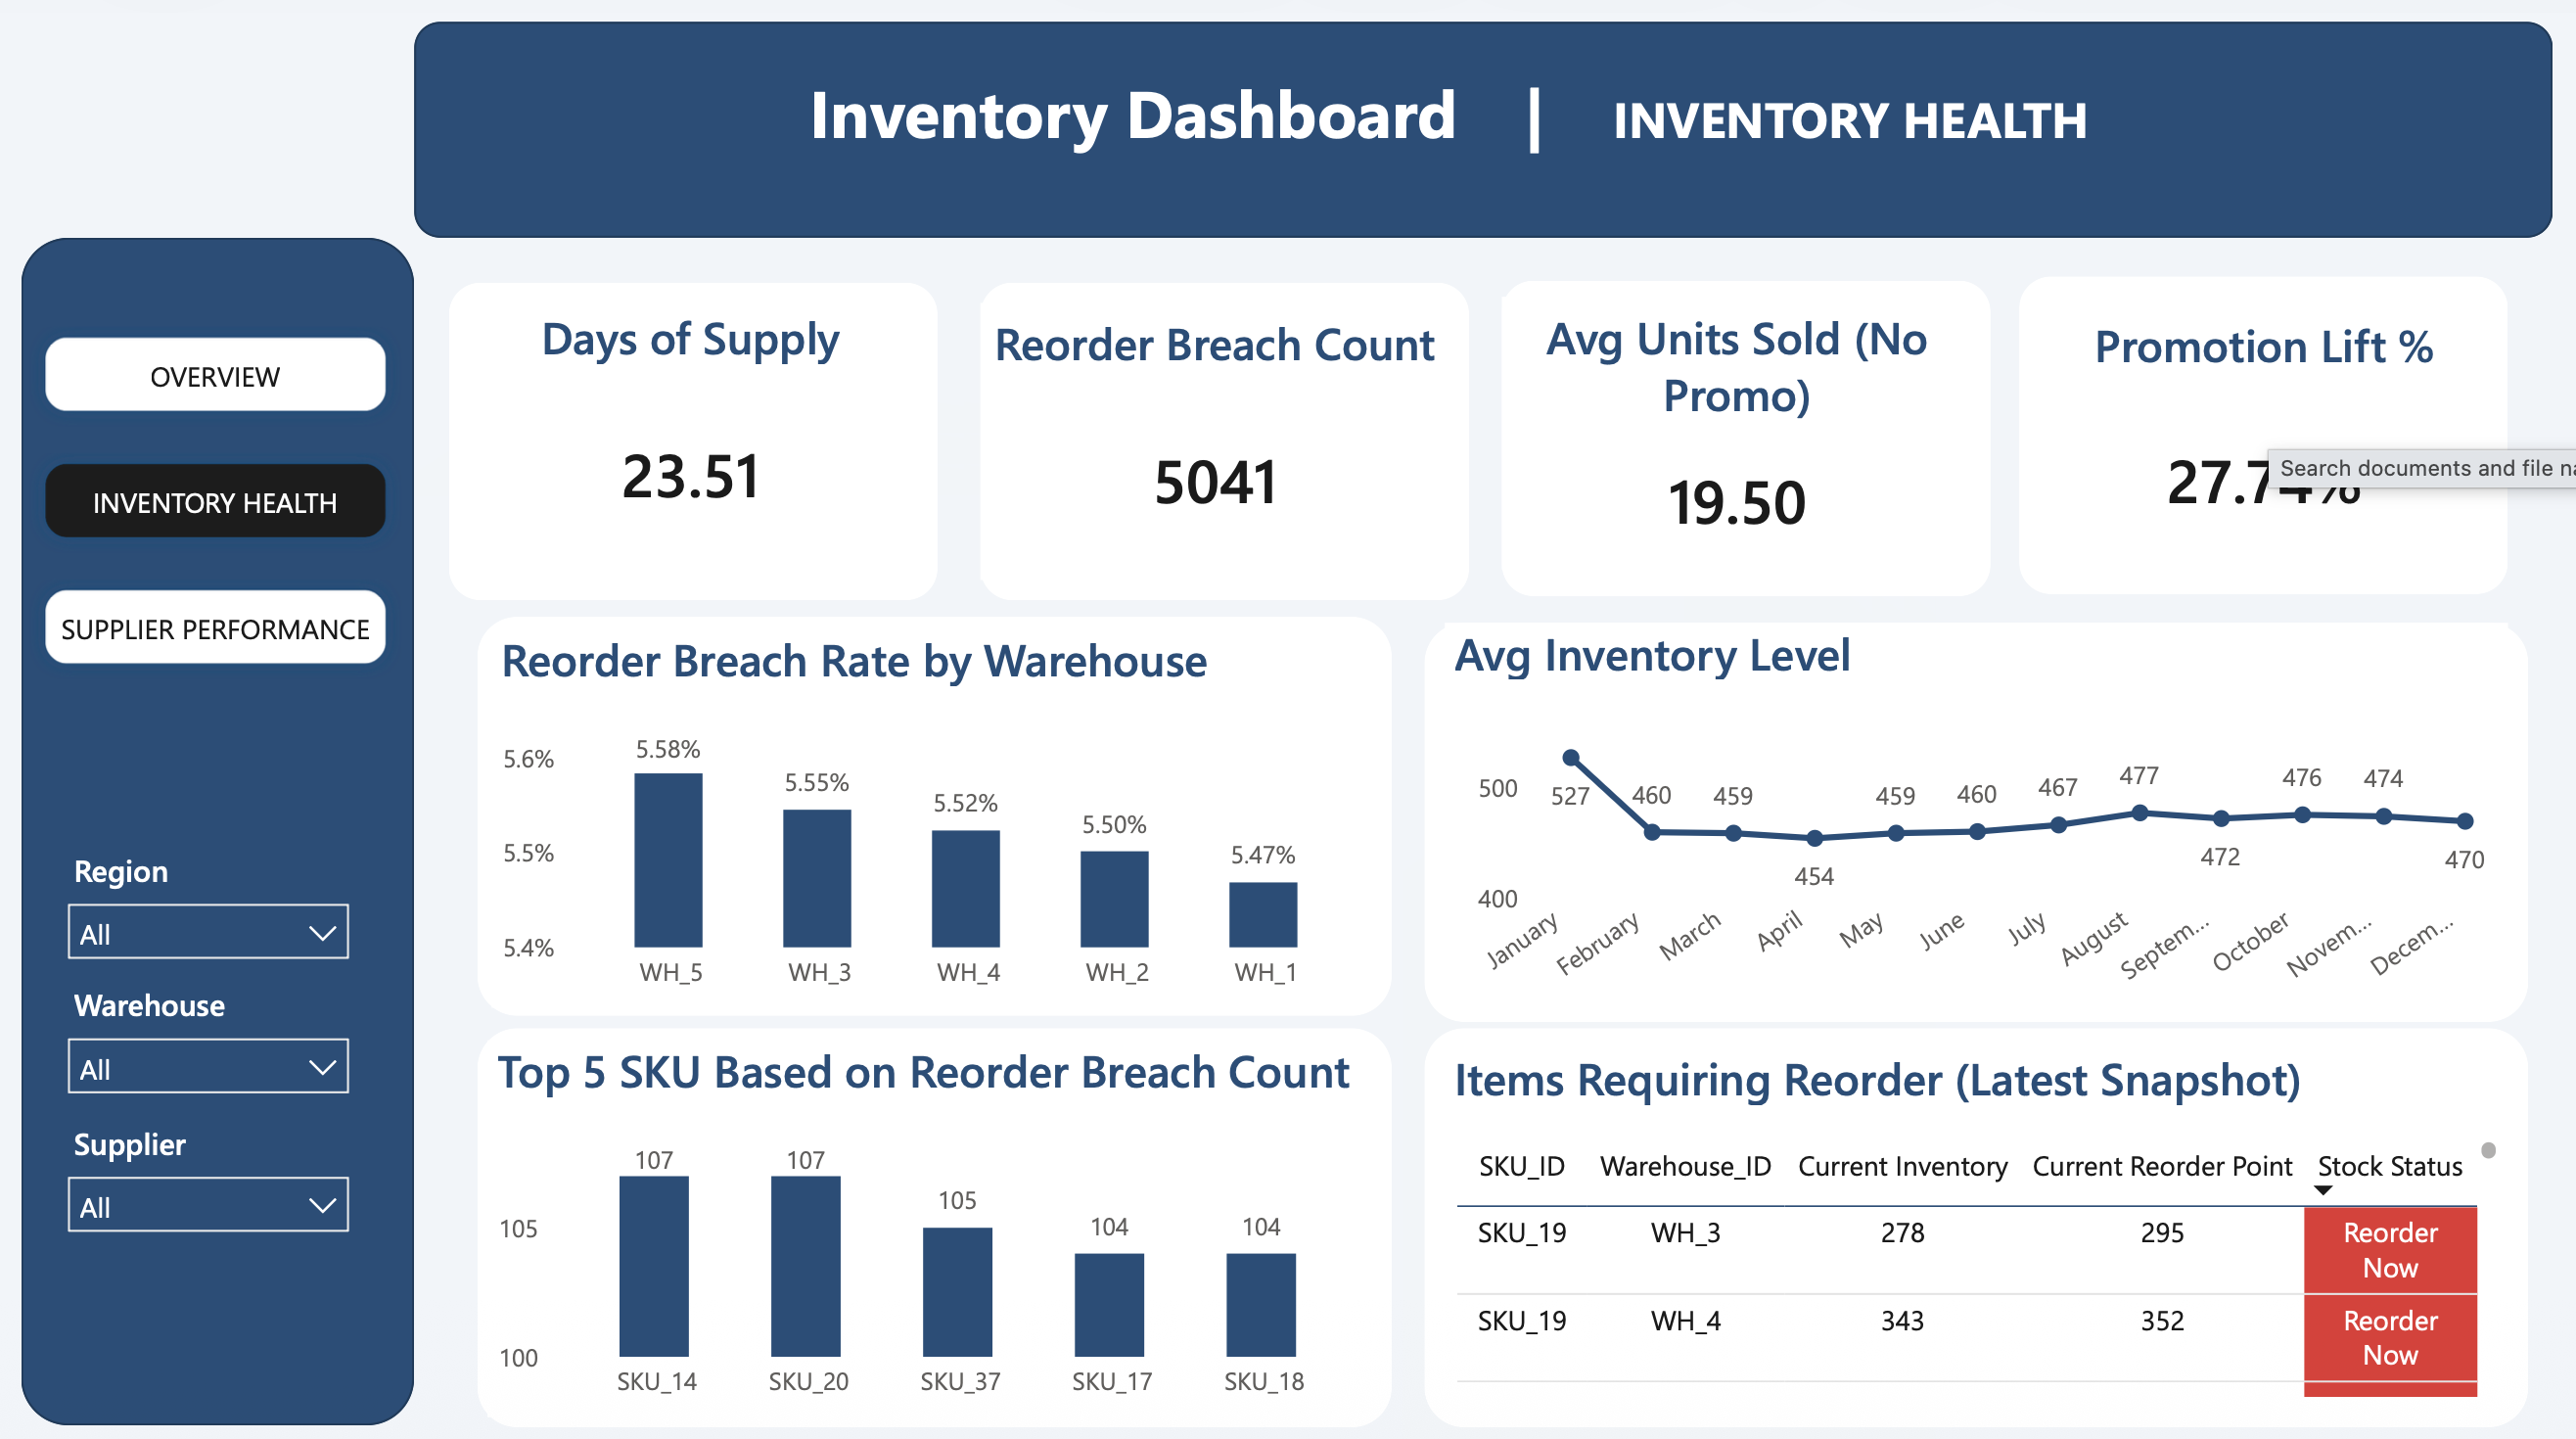

The page's visual inventory and layout, read from the dashboard file:
{"tool":"powerbi","page":{"name":"INVENTORY HEALTH","canvas":[1280,720],"ordinal":1},"visuals":[{"type":"slicer","fields":{"Values":["DimRegion.Region"]},"box":[33.3,420.2,157.6,68.7],"z":0,"group":"g1"},{"type":"shape","box":[244.3,512.9,448.6,195.7],"z":0},{"type":"shape","box":[244.3,311.4,448.6,195.7],"z":1000},{"type":"slicer","fields":{"Values":["DimWarehouse.Warehouse_ID"]},"box":[33.3,485.9,157.6,68.7],"z":1000,"group":"g1"},{"type":"shape","box":[708.6,314.3,542.9,195.7],"z":2000},{"type":"slicer","fields":{"Values":["DimSupplier.Supplier_ID"]},"box":[33.3,554.5,157.6,68.7],"z":2000,"group":"g1"},{"type":"shape","box":[708.6,512.9,542.9,195.7],"z":3000},{"type":"shape","box":[1001.4,144.3,240,155.7],"z":4000},{"type":"shape","box":[747.1,145.7,240,155.7],"z":5000},{"type":"shape","box":[491.4,147.1,240,155.7],"z":6000},{"type":"shape","box":[230,147.1,240,155.7],"z":7000},{"type":"shape","box":[212.8,18.7,1049.8,106.4],"z":8000},{"type":"cardVisual","title":"Reorder Breach Count","fields":{"Data":["_Measure.Reorder Breach Count"]},"box":[491.4,157.1,230.3,135.5],"z":9000},{"type":"textbox","box":[320.7,36,801,71.9],"z":10000},{"type":"shape","box":[20,125,192.5,582.5],"z":11000},{"type":"pageNavigator","box":[24.3,166.2,182.4,177],"z":12000},{"type":"cardVisual","title":"Promotion Lift %","fields":{"Data":["_Measure.Promotion Lift %"]},"box":[1006.5,157.5,231.6,134.2],"z":13000},{"type":"cardVisual","title":"Avg Units Sold (No Promo)","fields":{"Data":["_Measure.Avg Units Sold (No Promo)"]},"box":[747.4,153.9,231.6,134.2],"z":14000},{"type":"cardVisual","title":"Days of Supply","fields":{"Data":["_Measure.Days of Supply"]},"box":[233.1,154.4,231.6,135.5],"z":15000},{"type":"lineChart","title":"Avg Inventory Level","fields":{"Category":["DimDate.MonthName"],"Y":["_Measure.Avg Inventory Level"]},"box":[718.6,314.3,522.9,188.6],"z":16000},{"type":"clusteredColumnChart","title":"Reorder Breach Rate by Warehouse","fields":{"Category":["DimWarehouse.Warehouse_ID"],"Y":["_Measure.Reorder Breach Rate"]},"box":[251.4,317.1,432.9,185.7],"z":17000},{"type":"tableEx","title":"Items Requiring Reorder (Latest Snapshot)","fields":{"Values":["DimSKU.SKU_ID","DimWarehouse.Warehouse_ID","_Measure.Current Inventory","select","_Measure.Current Reorder Point","_Measure.Stock Status"]},"box":[718.6,522.9,522.9,175.7],"z":18000},{"type":"clusteredColumnChart","title":"Top 5 SKU Based on Reorder Breach Count","fields":{"Category":["DimSKU.SKU_ID"],"Y":["_Measure.Reorder Breach Count"]},"box":[248.6,518.6,435.7,185.7],"z":19000},{"type":"group","id":"g1","title":"Group 1","box":[33.3,420.2,157.6,203],"z":20000}]}

Visuals, with their boxes on the page's 1280x720 design canvas (x1, y1, x2, y2). These are canvas units, not pixel positions in the 2576x1439 screenshot, which may show the page scaled, cropped or inside an application window:
slicer - DimRegion.Region: rect(33, 420, 191, 489)
shape: rect(244, 513, 693, 709)
shape: rect(244, 311, 693, 507)
slicer - DimWarehouse.Warehouse_ID: rect(33, 486, 191, 555)
shape: rect(709, 314, 1252, 510)
slicer - DimSupplier.Supplier_ID: rect(33, 554, 191, 623)
shape: rect(709, 513, 1252, 709)
shape: rect(1001, 144, 1241, 300)
shape: rect(747, 146, 987, 301)
shape: rect(491, 147, 731, 303)
shape: rect(230, 147, 470, 303)
shape: rect(213, 19, 1263, 125)
"Reorder Breach Count" cardVisual: rect(491, 157, 722, 293)
textbox: rect(321, 36, 1122, 108)
shape: rect(20, 125, 212, 708)
pageNavigator: rect(24, 166, 207, 343)
"Promotion Lift %" cardVisual: rect(1006, 158, 1238, 292)
"Avg Units Sold (No Promo)" cardVisual: rect(747, 154, 979, 288)
"Days of Supply" cardVisual: rect(233, 154, 465, 290)
"Avg Inventory Level" lineChart: rect(719, 314, 1242, 503)
"Reorder Breach Rate by Warehouse" clusteredColumnChart: rect(251, 317, 684, 503)
"Items Requiring Reorder (Latest Snapshot)" tableEx: rect(719, 523, 1242, 699)
"Top 5 SKU Based on Reorder Breach Count" clusteredColumnChart: rect(249, 519, 684, 704)
"Group 1" group: rect(33, 420, 191, 623)
